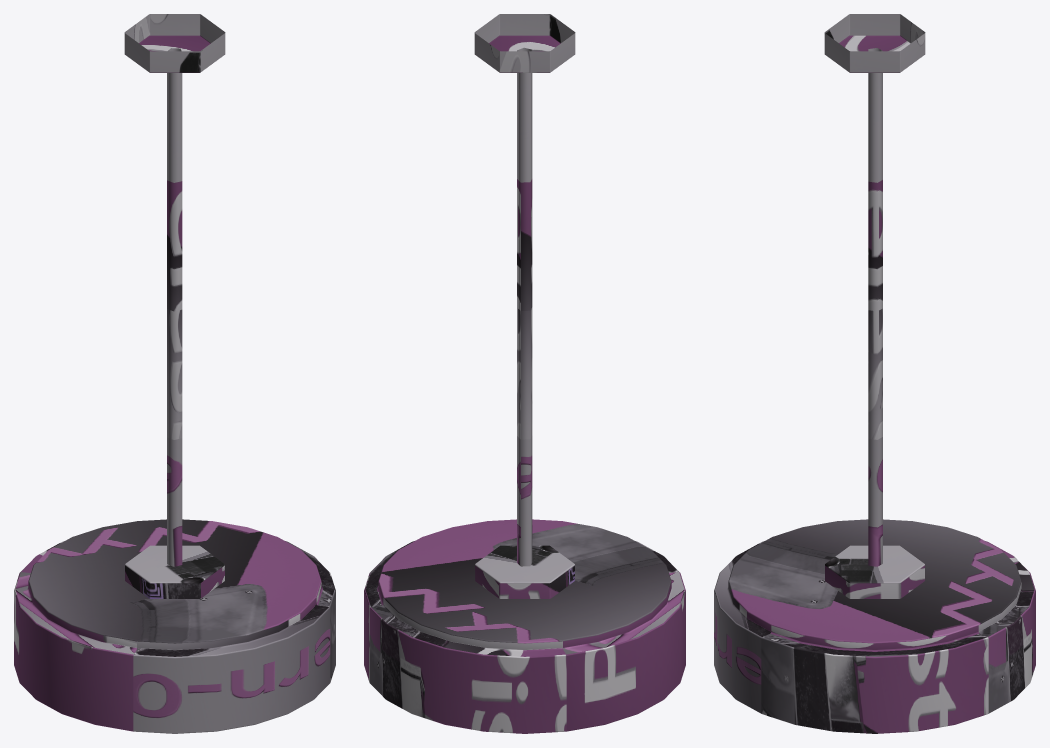
The model's file is SM_CealingLightCircular_Full.fbx.
3 renders of one model, left to right at view 1: azimuth 30°, elevation 25°; view 2: azimuth 150°, elevation 25°; view 3: azimuth 270°, elevation 25°, orthographic.
Parts seen in each view (by area): view 1: Lamp Base.001, Lamp 2 cable.001, Lamp Top - hexa.003, Lamp Top - hexa.002; view 2: Lamp Base.001, Lamp 2 cable.001, Lamp Top - hexa.003, Lamp Top - hexa.002; view 3: Lamp Base.001, Lamp 2 cable.001, Lamp Top - hexa.003, Lamp Top - hexa.002.
Boxes of the visible parts, x1,y1,x2,y2 form: Lamp Base.001: [14, 519, 335, 733]; Lamp 2 cable.001: [167, 48, 182, 566]; Lamp Top - hexa.003: [124, 14, 225, 72]; Lamp Top - hexa.002: [125, 545, 224, 598]; Lamp Base.001: [364, 519, 685, 733]; Lamp 2 cable.001: [517, 47, 532, 566]; Lamp Top - hexa.003: [474, 14, 575, 72]; Lamp Top - hexa.002: [475, 545, 574, 598]; Lamp Base.001: [714, 519, 1035, 733]; Lamp 2 cable.001: [868, 48, 882, 566]; Lamp Top - hexa.003: [824, 14, 925, 72]; Lamp Top - hexa.002: [825, 545, 924, 598].
Size of the model in its own units: 50.01 by 50.01 by 109.
